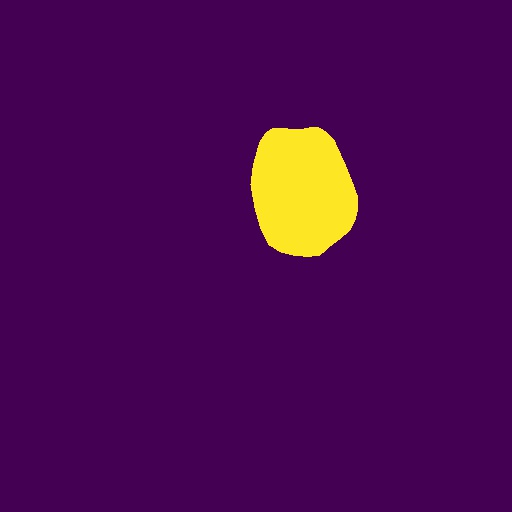Gliomia_tumour: (250, 127, 358, 257)
